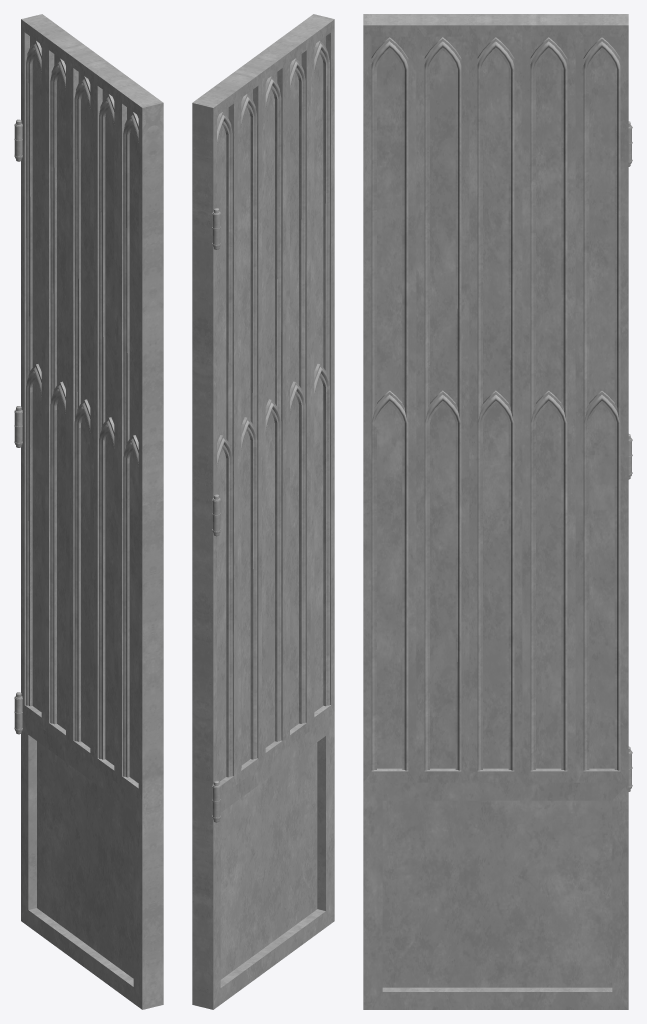
Rendered from SM_door.fbx.
3 renders of one model, left to right at view 1: azimuth 30°, elevation 25°; view 2: azimuth 150°, elevation 25°; view 3: azimuth 270°, elevation 25°, orthographic. The views are drawn at different scales.
Visible parts, largest first — view 1: SM_door_LOD0; view 2: SM_door_LOD0; view 3: SM_door_LOD0.
Boxes of the visible parts, box(x1,y1,x2,y2) form: SM_door_LOD0: box(14, 14, 163, 1009); SM_door_LOD0: box(192, 14, 334, 1009); SM_door_LOD0: box(363, 14, 632, 1009).
Bounding box in the file's own units: 24.96 × 192 × 774.
